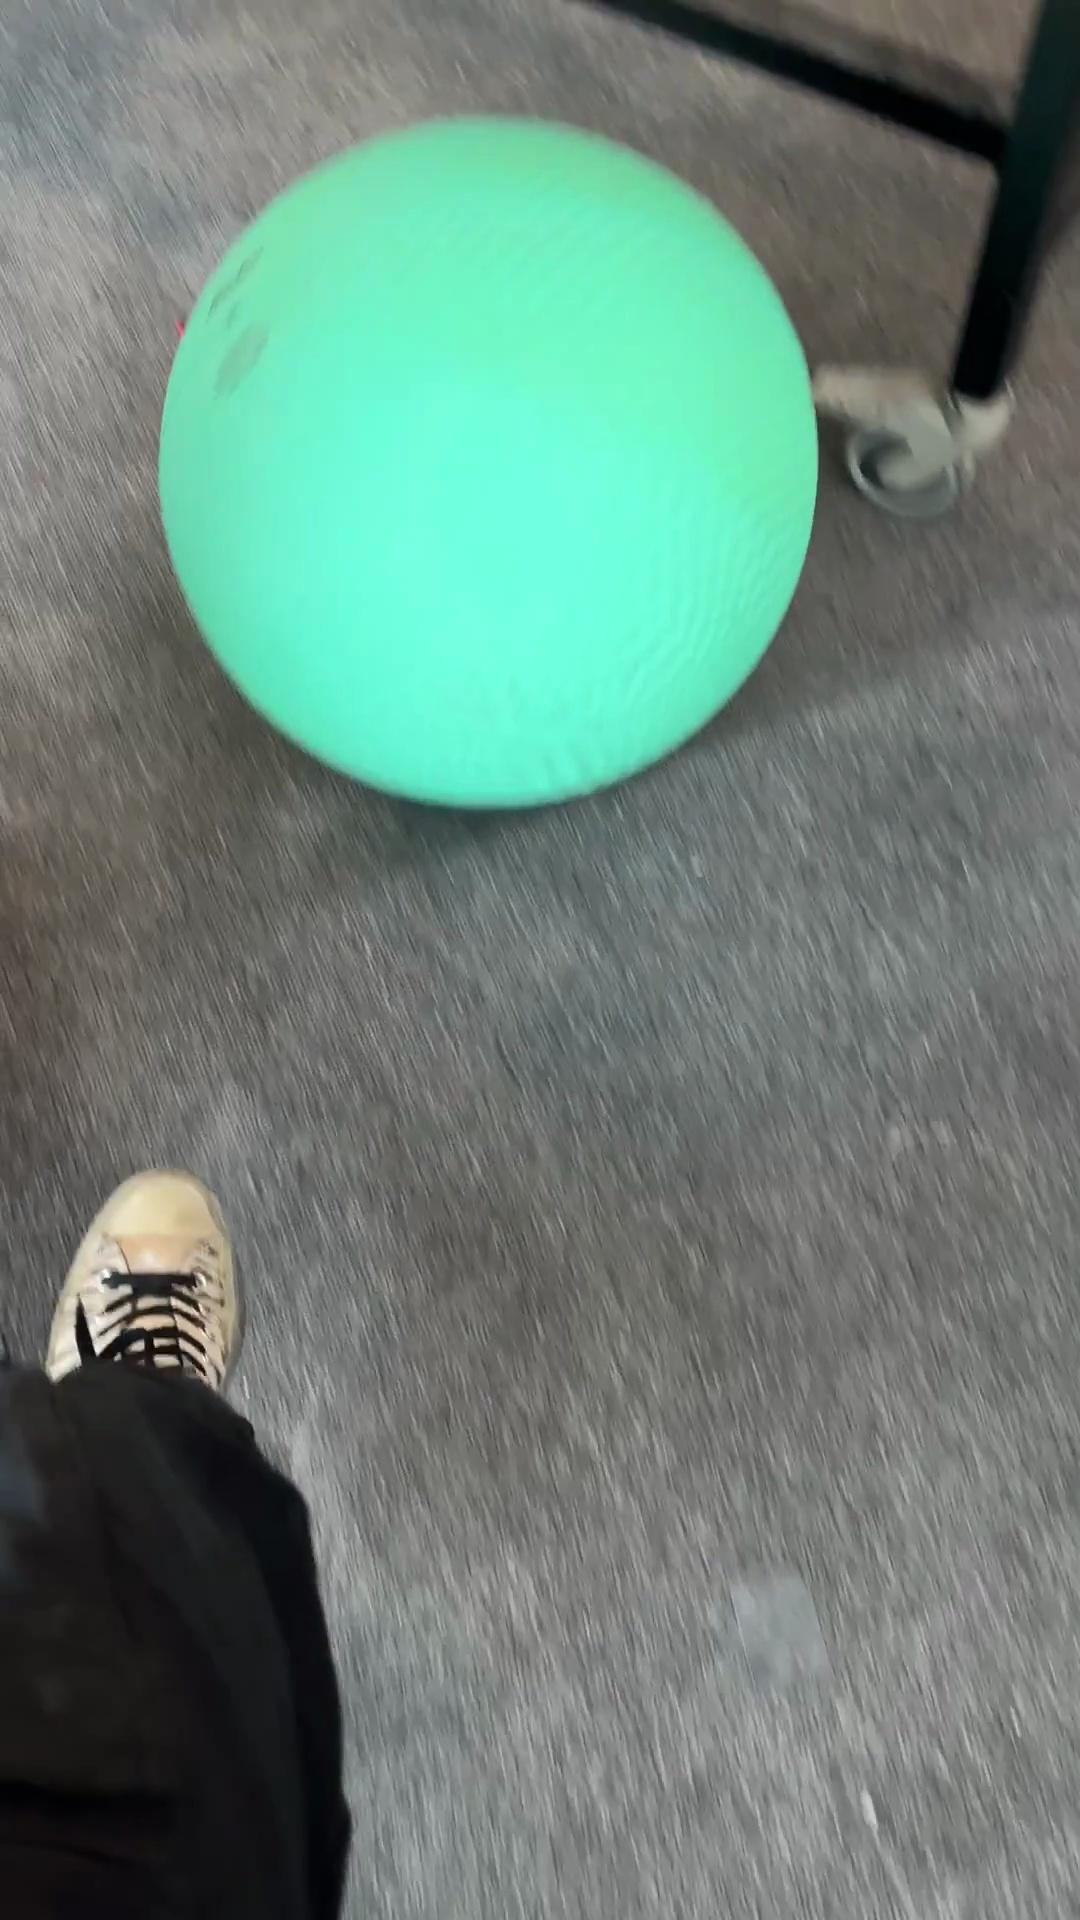ALGAE: (154, 113, 822, 814)
